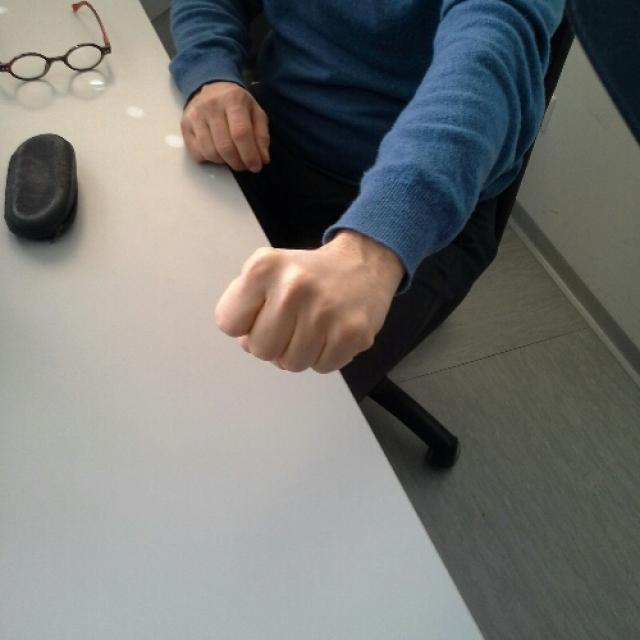fist: (216, 248, 384, 375)
